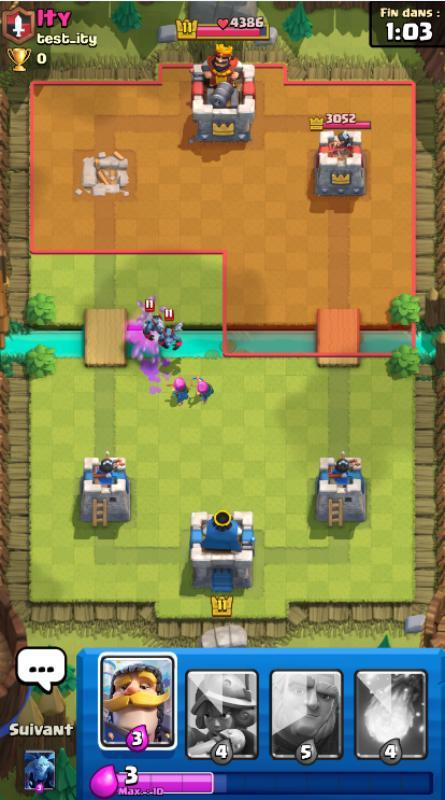archere: (188, 373, 214, 405), (166, 377, 191, 406)
gargouille: (156, 309, 184, 351), (142, 299, 166, 341)
